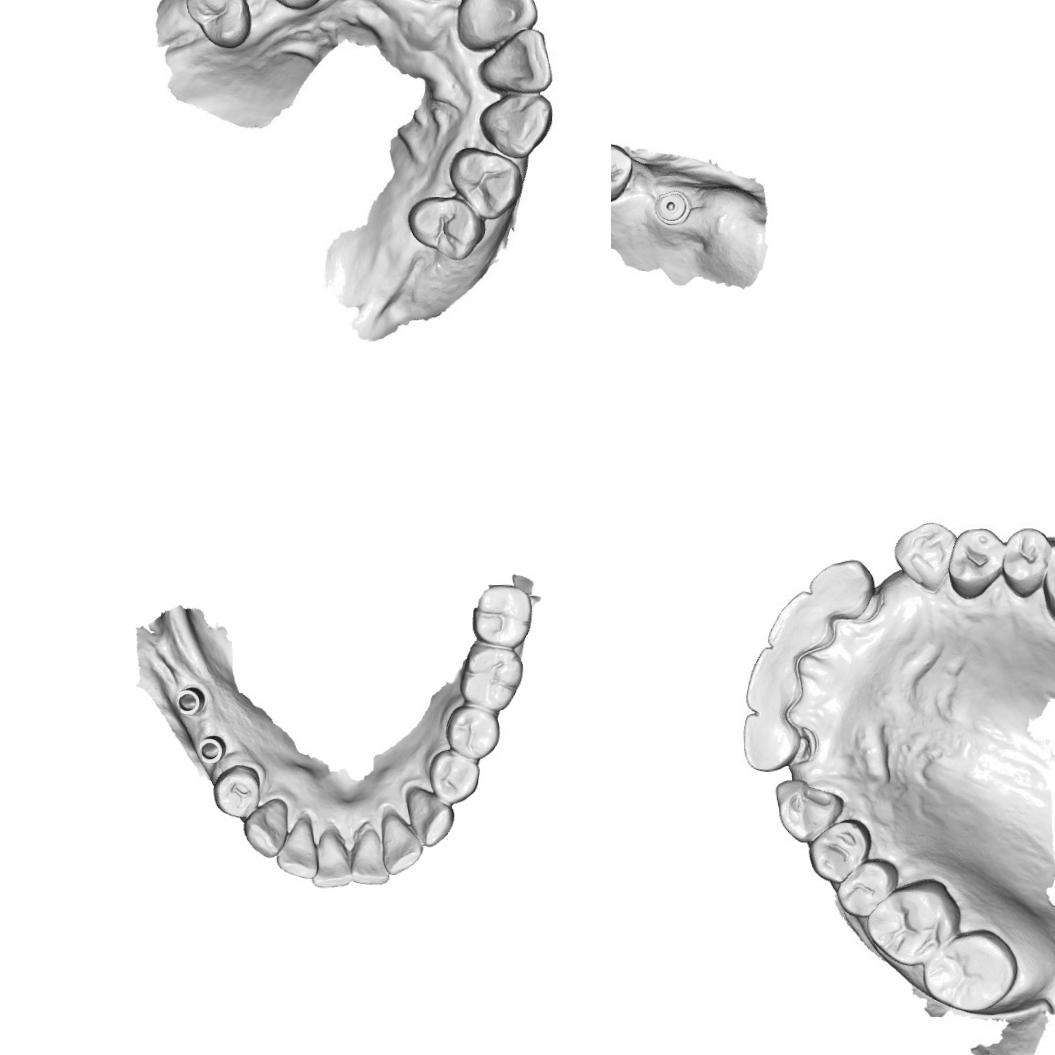canine: (772, 776, 846, 846), (890, 519, 958, 593), (480, 90, 552, 151), (404, 785, 456, 848), (240, 796, 290, 860)
implant: (652, 188, 691, 228), (174, 684, 206, 718), (196, 734, 227, 766)
incisor: (480, 28, 554, 98), (764, 588, 837, 657), (742, 644, 808, 717), (806, 557, 878, 623), (740, 708, 805, 774), (455, 0, 534, 46), (273, 815, 320, 881), (379, 811, 425, 877), (309, 826, 354, 890), (348, 824, 390, 886)
molar: (863, 876, 963, 969), (920, 926, 1020, 1016), (456, 640, 526, 713), (468, 580, 536, 651)
premolar: (412, 192, 484, 261), (944, 524, 1008, 601), (454, 144, 520, 214), (806, 817, 872, 886), (833, 856, 900, 920), (1000, 525, 1052, 598), (183, 0, 253, 53), (443, 704, 503, 762), (426, 747, 482, 806), (210, 762, 264, 820), (611, 141, 636, 204)
